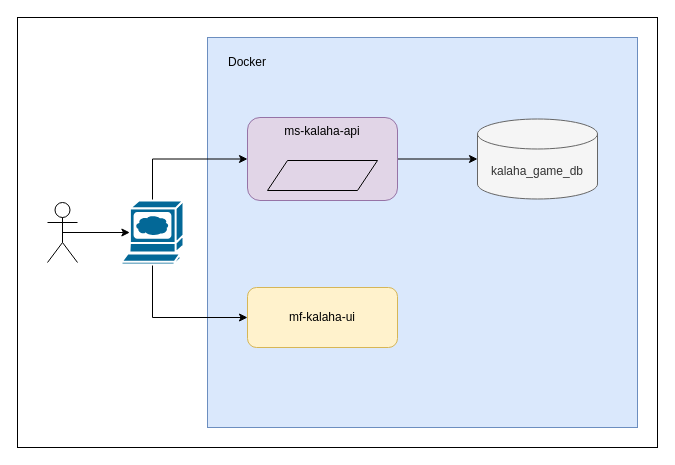
The diagram is 675 pixels wide and 465 high, and some of its shapes have lost their labels. Here are the shapes that lost their labels. From the top down, the centre of each, then its label:
At point (322, 175): "kalaha-core".
At point (62, 232): "Players".
